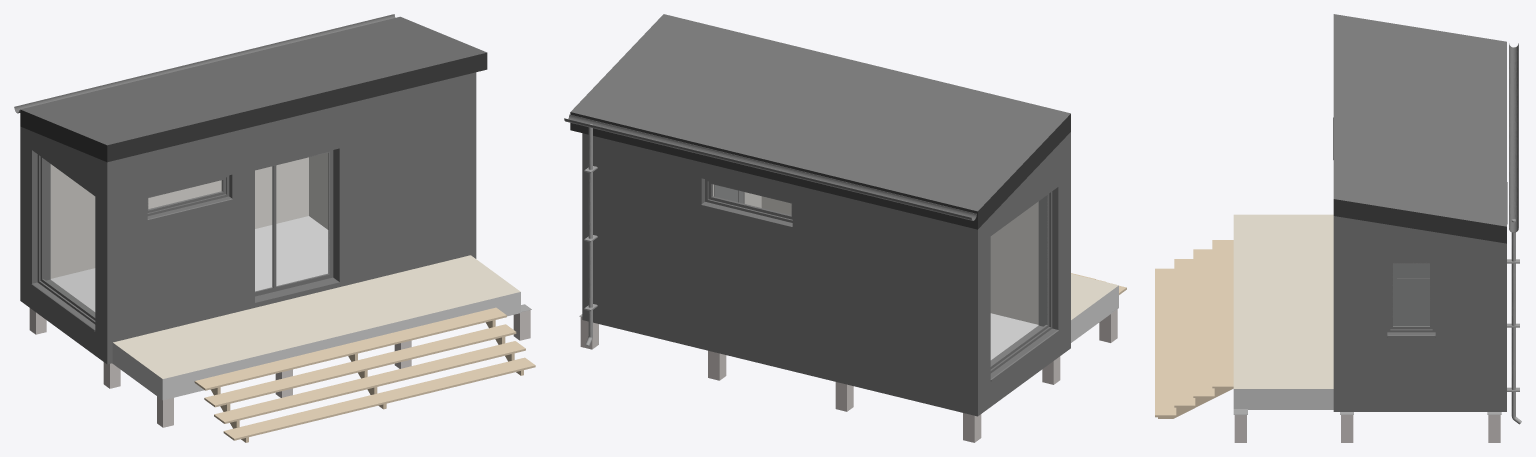
Rendered from 3dExport.gltf.
The picture shows the model from 3 angles, left to right: view 1: azimuth 30°, elevation 25°; view 2: azimuth 150°, elevation 25°; view 3: azimuth 270°, elevation 25°; orthographic projection. The views are drawn at different scales.
Visible parts, largest first — view 1: 2_150х50 - о - о - о - в - 150 - п - о - о (×3), 2_О-О-П-150-В-О-О-ФЦ, 1_СВ-ОБ150-ЛБУ150-О, Обобщенные модели 8, 1 Створка (×3), 1_СВ-ОБ15-ПД-В-ЛУ15-П-О-ЛМ-О, Желоб, 1_150х50 - о - п - 150 - п - о, Обобщенные модели 6, Свая; view 2: 2_150х50 - о - о - о - в - 150 - п - о - о (×3), 2_О-О-П-150-В-О-О-ФЦ, 1 Створка (×2), Желоб, 1_СВ-ОБ150-ЛБУ150-О, 1_СВ-ОБ15-ПД-В-ЛУ15-П-О-ЛМ-О, Обобщенные модели 7; view 3: 2_О-О-П-150-В-О-О-ФЦ, 2_150х50 - о - о - о - в - 150 - п - о - о (×3), 1_СВ-ОБ150-ЛБУ150-О, Обобщенные модели 8, 800 x 2100, Желоб, 1 Створка, Свая (×3), Обобщенные модели 7.
Part boxes in pixels (<box>): 2_150х50 - о - о - о - в - 150 - п - о - о (×3): <box>20,72,476,364</box>; 2_О-О-П-150-В-О-О-ФЦ: <box>20,16,487,162</box>; 1_СВ-ОБ150-ЛБУ150-О: <box>112,255,520,400</box>; Обобщенные модели 8: <box>194,307,535,442</box>; 1 Створка (×3): <box>31,147,340,331</box>; 1_СВ-ОБ15-ПД-В-ЛУ15-П-О-ЛМ-О: <box>50,216,328,311</box>; Желоб: <box>14,14,395,113</box>; 1_150х50 - о - п - 150 - п - о: <box>309,153,328,229</box>; Обобщенные модели 6: <box>272,165,276,287</box>; Свая: <box>513,304,531,340</box>; 2_150х50 - о - о - о - в - 150 - п - о - о (×3): <box>582,132,1070,416</box>; 2_О-О-П-150-В-О-О-ФЦ: <box>570,14,1070,229</box>; 1 Створка (×2): <box>701,177,1058,381</box>; Желоб: <box>564,114,976,220</box>; 1_СВ-ОБ150-ЛБУ150-О: <box>1071,274,1118,342</box>; 1_СВ-ОБ15-ПД-В-ЛУ15-П-О-ЛМ-О: <box>990,313,1038,359</box>; Обобщенные модели 7: <box>584,124,597,346</box>; 2_О-О-П-150-В-О-О-ФЦ: <box>1333,14,1506,243</box>; 2_150х50 - о - о - о - в - 150 - п - о - о (×3): <box>1333,216,1506,411</box>; 1_СВ-ОБ150-ЛБУ150-О: <box>1233,214,1333,409</box>; Обобщенные модели 8: <box>1155,240,1233,418</box>; 800 x 2100: <box>1393,263,1429,325</box>; Желоб: <box>1509,43,1518,232</box>; 1 Створка: <box>1386,259,1436,337</box>; Свая (×3): <box>1233,409,1501,442</box>; Обобщенные модели 7: <box>1507,219,1521,424</box>.
Size of the model in its own units: 6.19 by 3.85 by 5.18.
